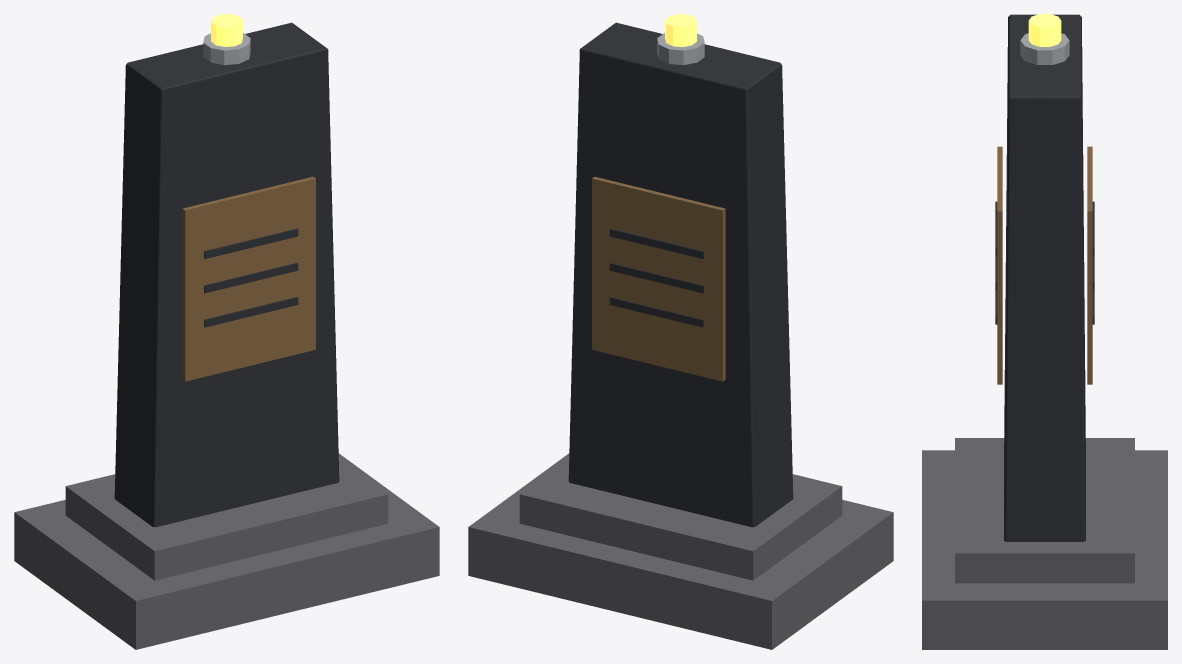
File: landmark_plaque.glb
3 renders of one model, left to right at view 1: azimuth 30°, elevation 25°; view 2: azimuth 150°, elevation 25°; view 3: azimuth 270°, elevation 25°, orthographic.
Visible parts, largest first — view 1: landmark_plaque_graphite, landmark_plaque_stone, landmark_plaque_bronze, lamp_base, lamp; view 2: landmark_plaque_graphite, landmark_plaque_stone, landmark_plaque_bronze, lamp_base, lamp; view 3: landmark_plaque_stone, landmark_plaque_graphite, landmark_plaque_bronze, lamp_base, lamp.
Part boxes in pixels (left/top/right/bottom): landmark_plaque_graphite: left=114, top=22, right=339, bottom=527; landmark_plaque_stone: left=14, top=453, right=439, bottom=649; landmark_plaque_bronze: left=182, top=176, right=315, bottom=381; lamp_base: left=203, top=33, right=250, bottom=65; lamp: left=211, top=14, right=242, bottom=46; landmark_plaque_graphite: left=568, top=22, right=793, bottom=527; landmark_plaque_stone: left=468, top=453, right=893, bottom=649; landmark_plaque_bronze: left=592, top=176, right=725, bottom=381; lamp_base: left=657, top=33, right=704, bottom=65; lamp: left=665, top=14, right=696, bottom=46; landmark_plaque_stone: left=922, top=438, right=1167, bottom=649; landmark_plaque_graphite: left=995, top=14, right=1094, bottom=541; landmark_plaque_bronze: left=997, top=146, right=1092, bottom=384; lamp_base: left=1020, top=33, right=1069, bottom=64; lamp: left=1028, top=14, right=1061, bottom=46.
Bounding box in the file's own units: 1.3 × 2.24 × 0.9.
